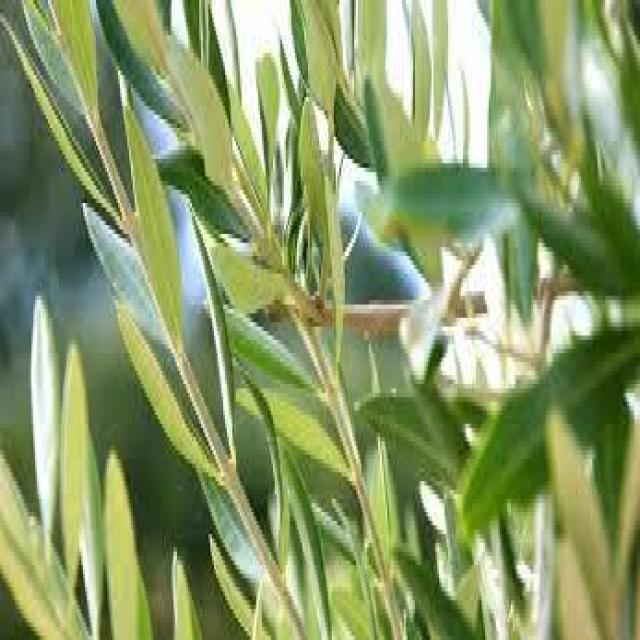Healthy: (124, 102, 181, 335), (61, 344, 87, 578)
